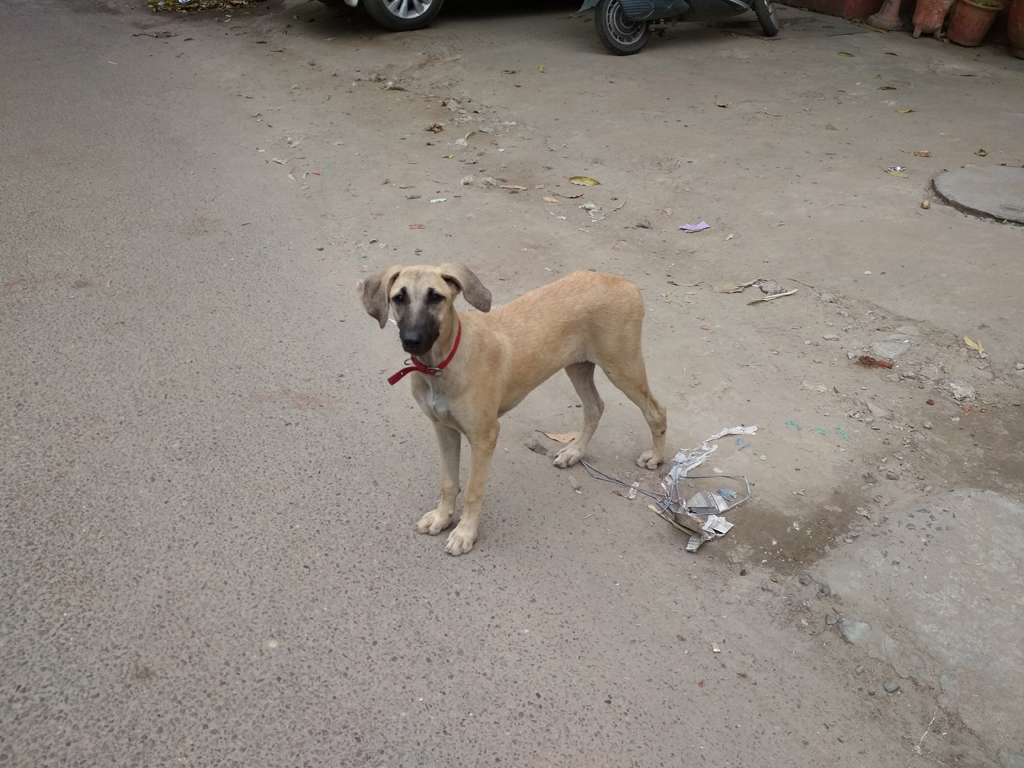dog: (355, 265, 669, 557)
